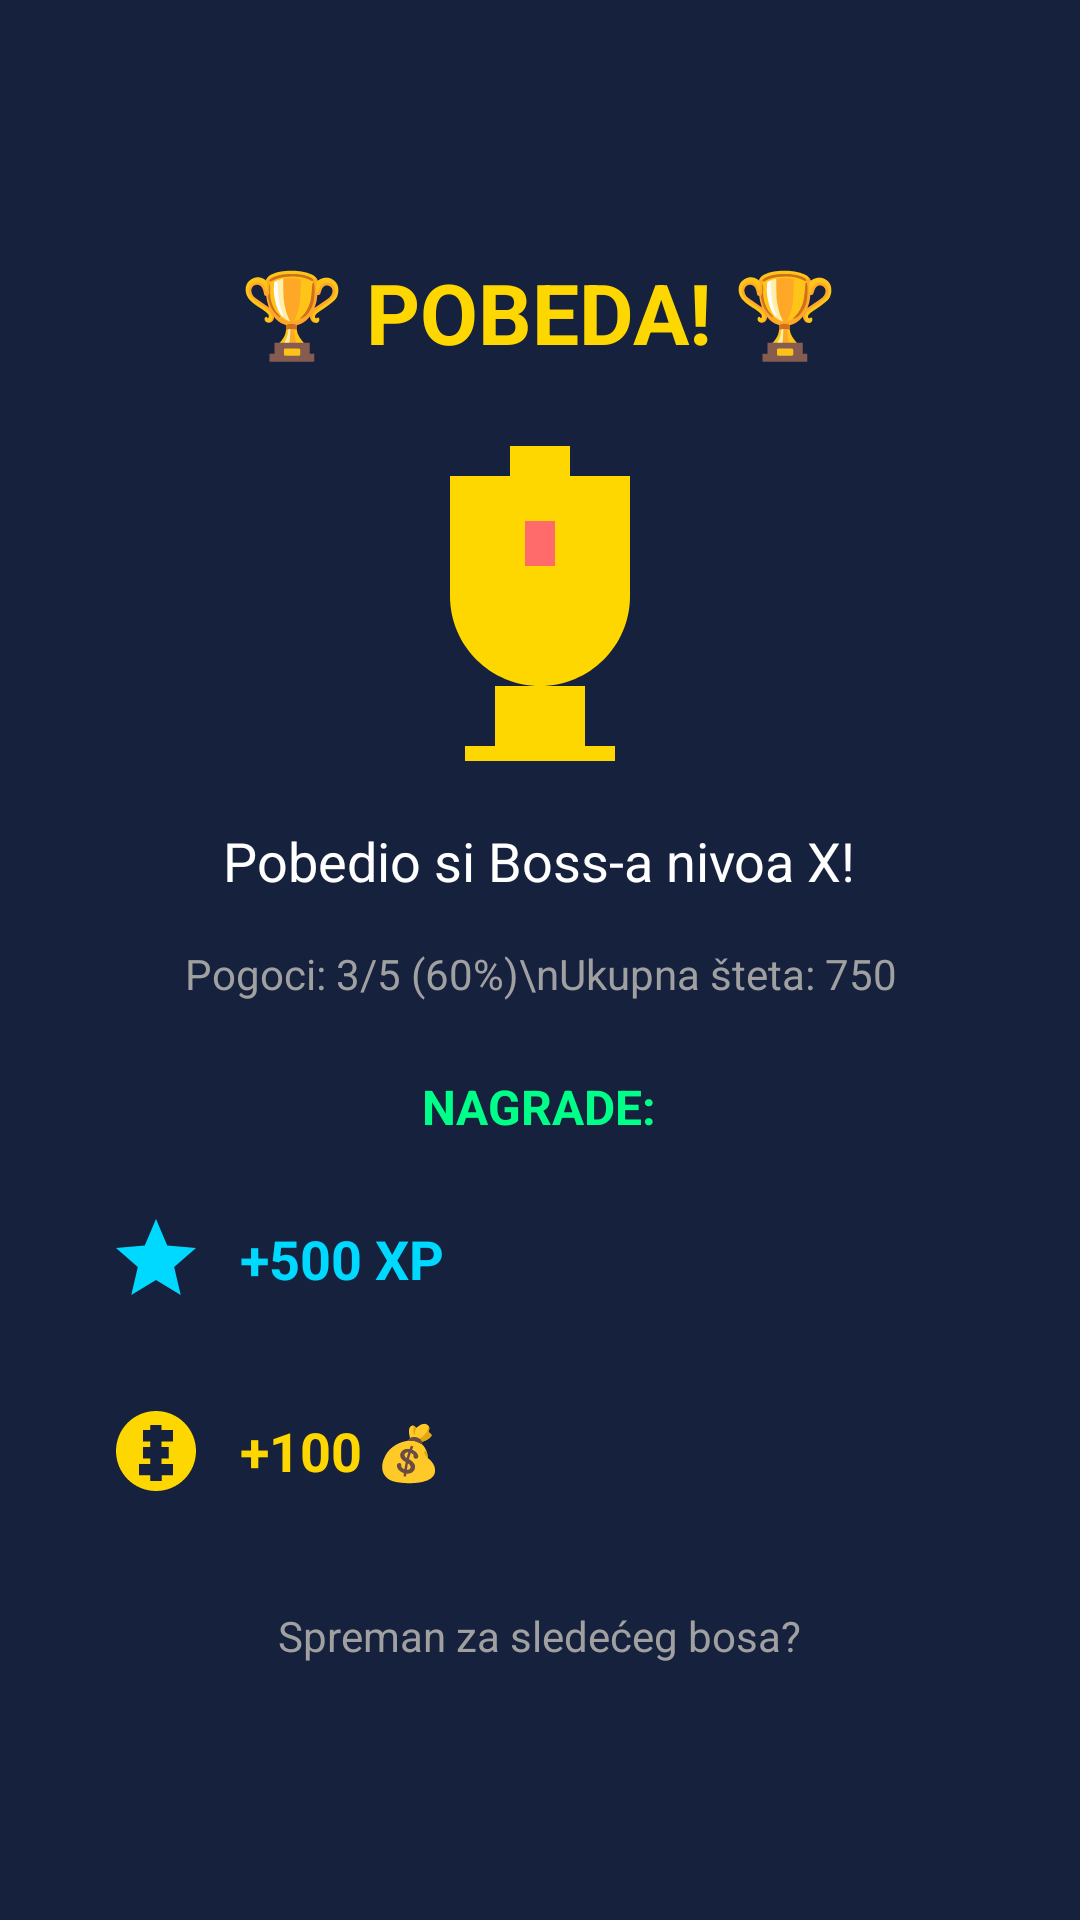

Where to tap for icons on this 1080px×1920px app screen, as [x,y]:
Coins: [156,1451]
Victory: [540,603]
